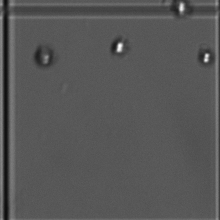Living Cell: (30, 43, 60, 72), (167, 1, 199, 24), (108, 33, 135, 60), (192, 45, 216, 69)
